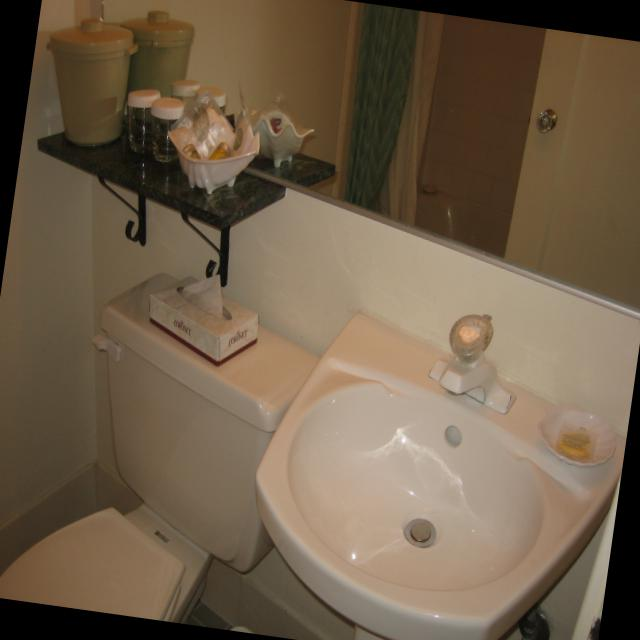bol: (173, 103, 259, 194)
cistern: (92, 269, 320, 574)
faucet handle: (430, 315, 516, 413)
glass ceiling: (127, 90, 159, 153)
glass of wine: (151, 96, 181, 163)
mirror crop: (103, 0, 640, 312)
shelf crop: (38, 123, 286, 230)
soap bottle: (558, 430, 593, 459)
tissue paper: (149, 274, 258, 366)
washbasin crop: (255, 312, 624, 640)
wc occluded: (0, 503, 211, 623)
